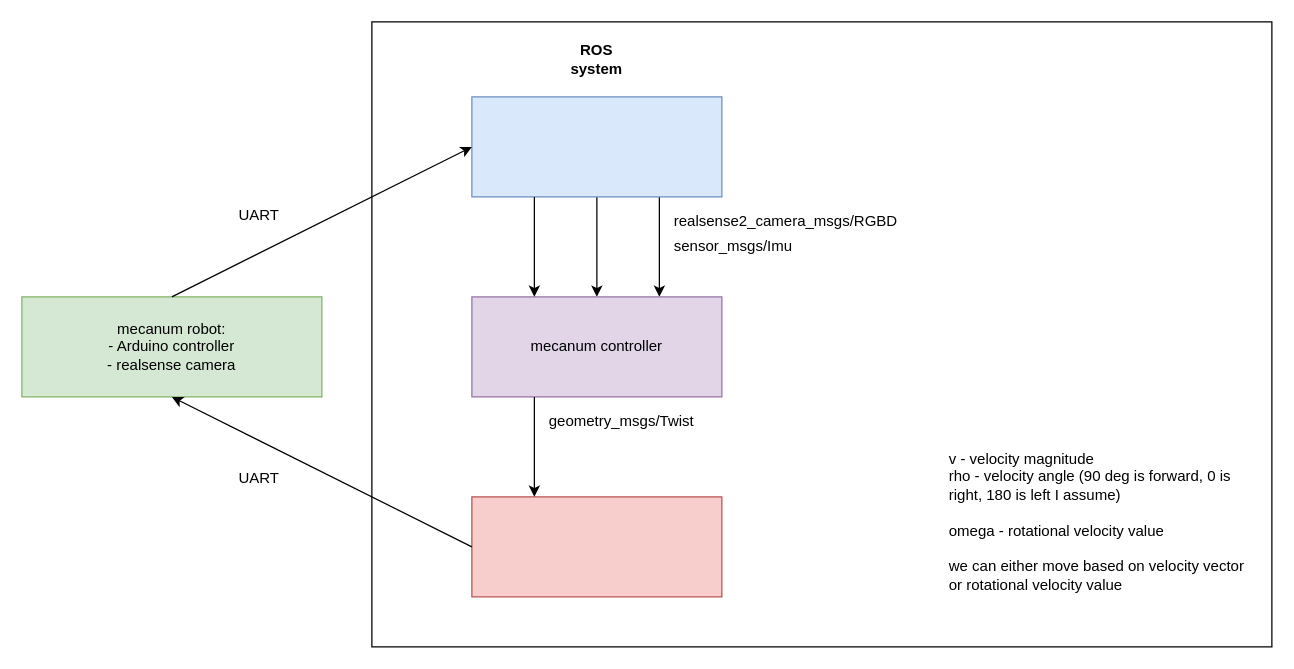
The diagram is 1294 pixels wide and 669 high, and some of its shapes have lost their labels. Each missing label, with the centre of its shape:
"mecanum driver" belongs at [596,546].
"rs2 camera" belongs at [596,146].
